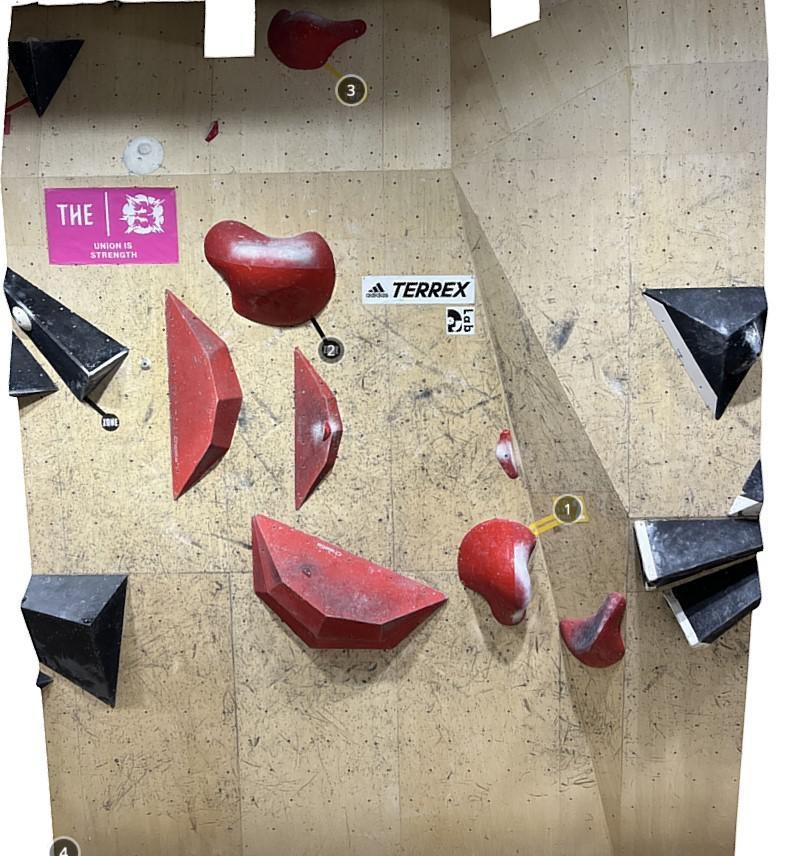hold: (641, 286, 769, 422), (3, 267, 130, 402), (204, 220, 336, 327), (632, 519, 764, 592), (660, 557, 761, 648), (456, 517, 536, 626), (7, 39, 86, 119), (267, 9, 367, 69), (559, 591, 627, 669), (9, 330, 62, 397), (727, 458, 764, 516), (123, 136, 165, 175), (495, 429, 519, 479), (12, 306, 33, 331), (204, 119, 219, 142), (321, 420, 333, 441), (138, 357, 152, 370), (79, 616, 95, 625), (302, 566, 314, 578)
volume: (253, 514, 449, 649), (165, 287, 243, 500), (20, 575, 128, 710), (294, 347, 342, 512), (34, 672, 54, 690)
